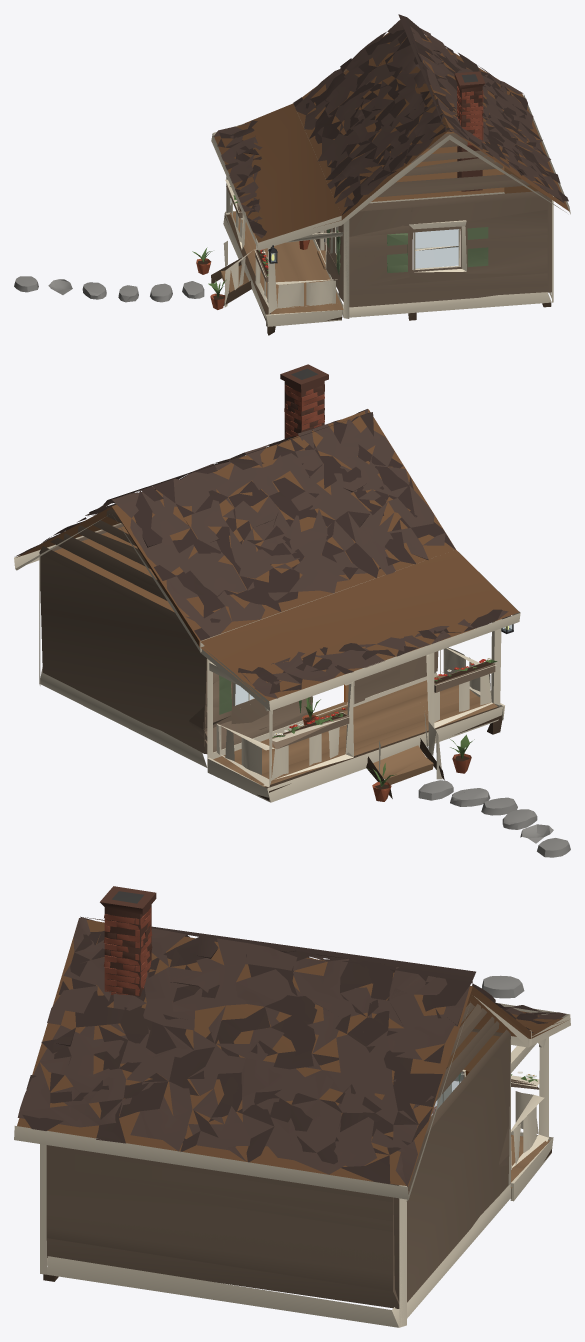
Rendered from ImeriExterior_LOD2.glb.
The picture shows the model from 3 angles, top to bottom: view 1: azimuth 30°, elevation 25°; view 2: azimuth 150°, elevation 25°; view 3: azimuth 270°, elevation 25°; orthographic projection. The views are drawn at different scales.
Visible parts, largest first — view 1: ImeriTecho, ImeriParedes, ImeriBase, ImeriPorche, ImeriVentanas, ImeriChimenea, ImeriSenda, ImeriJardin; view 2: ImeriTecho, ImeriParedes, ImeriBase, ImeriPorche, ImeriJardin, ImeriSenda, ImeriChimenea, ImeriVentanas; view 3: ImeriTecho, ImeriParedes, ImeriChimenea, ImeriPorche, ImeriBase, ImeriSenda.
Boxes of the visible parts, x1,y1,x2,y2 form: ImeriTecho: (211, 14, 570, 250); ImeriParedes: (313, 59, 553, 318); ImeriBase: (211, 210, 551, 335); ImeriPorche: (223, 176, 343, 313); ImeriVentanas: (327, 226, 488, 274); ImeriChimenea: (454, 71, 485, 191); ImeriSenda: (14, 276, 204, 302); ImeriJardin: (192, 179, 309, 309); ImeriTecho: (14, 409, 520, 711); ImeriParedes: (39, 503, 440, 767); ImeriBase: (207, 675, 504, 802); ImeriPorche: (209, 619, 501, 787); ImeriJardin: (269, 658, 497, 801); ImeriSenda: (418, 780, 570, 857); ImeriChimenea: (280, 364, 328, 438); ImeriVentanas: (219, 675, 254, 714); ImeriTecho: (14, 916, 570, 1201); ImeriParedes: (40, 1002, 510, 1327); ImeriChimenea: (100, 886, 156, 996); ImeriPorche: (437, 1037, 548, 1169); ImeriBase: (43, 1131, 553, 1281); ImeriSenda: (482, 975, 524, 998).
Bounding box in the file's own units: 15.64 × 7.36 × 10.23.
